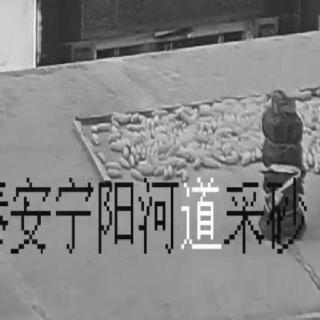other: (91, 90, 315, 178)
